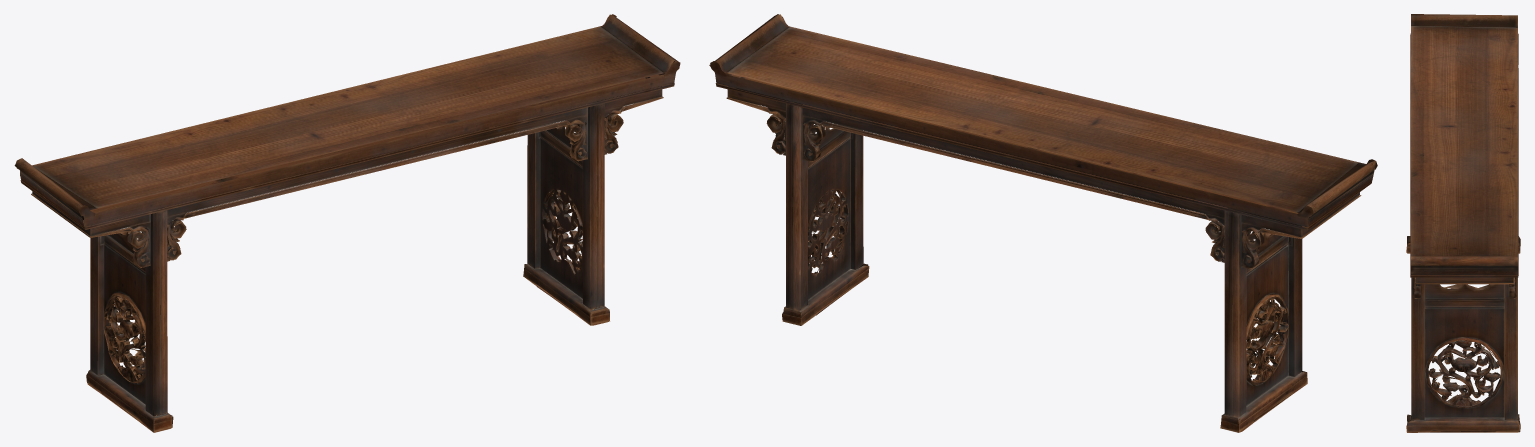
Rendered from chinese_console_table.glb.
3 renders of one model, left to right at view 1: azimuth 30°, elevation 25°; view 2: azimuth 150°, elevation 25°; view 3: azimuth 270°, elevation 25°, orthographic. The views are drawn at different scales.
Visible parts, largest first — view 1: chinese_console_table; view 2: chinese_console_table; view 3: chinese_console_table.
Boxes of the visible parts, <box> form: chinese_console_table: <box>14,14,680,432</box>; chinese_console_table: <box>709,14,1377,432</box>; chinese_console_table: <box>1406,14,1520,432</box>.
Bounding box in the file's own units: 1.72 × 0.6636 × 0.3382.
Materials: 1 (1 with a texture image).
